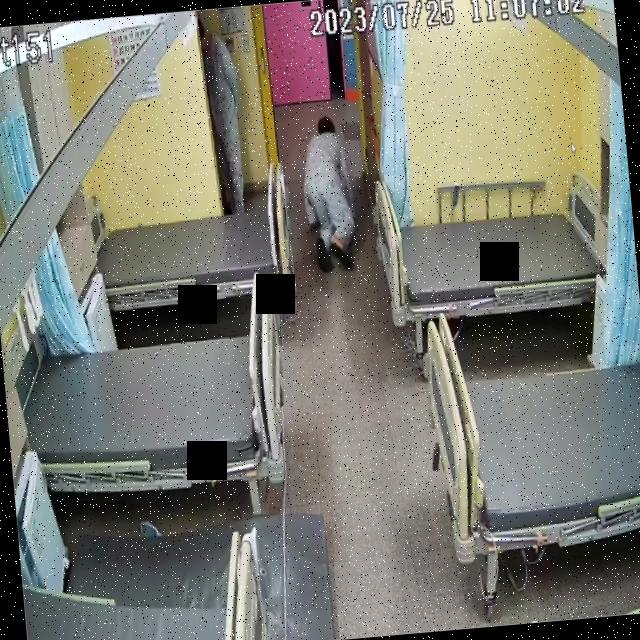bed: (419, 296, 640, 559), (16, 322, 290, 496), (372, 188, 616, 326), (95, 196, 292, 310)
fall: (293, 112, 359, 288)
patient: (294, 114, 362, 288), (200, 7, 250, 214)
stand: (198, 6, 250, 212)
